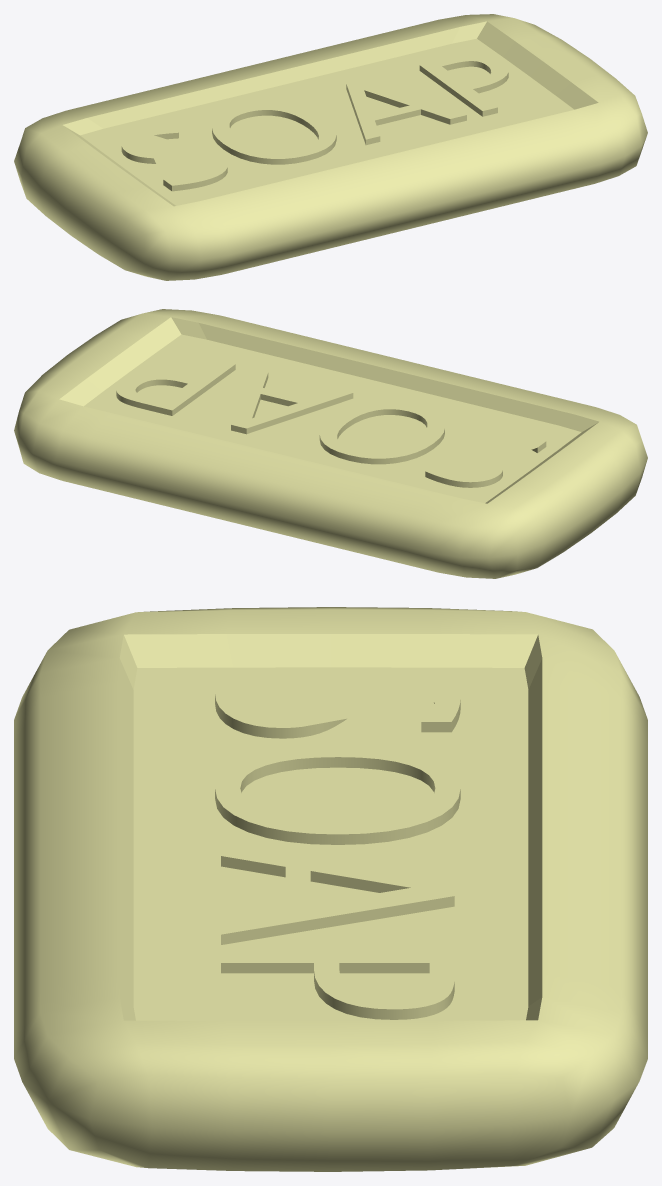
File: soap.fbx
3 renders of one model, top to bottom at view 1: azimuth 30°, elevation 25°; view 2: azimuth 150°, elevation 25°; view 3: azimuth 270°, elevation 25°, orthographic. The views are drawn at different scales.
Visible parts, largest first — view 1: pCube3; view 2: pCube3; view 3: pCube3.
Part boxes in pixels (bbox=[...]): pCube3: bbox=[14, 14, 647, 280]; pCube3: bbox=[14, 309, 647, 578]; pCube3: bbox=[14, 607, 647, 1171].
Bounding box in the file's own units: 1.81 × 0.2158 × 1.
